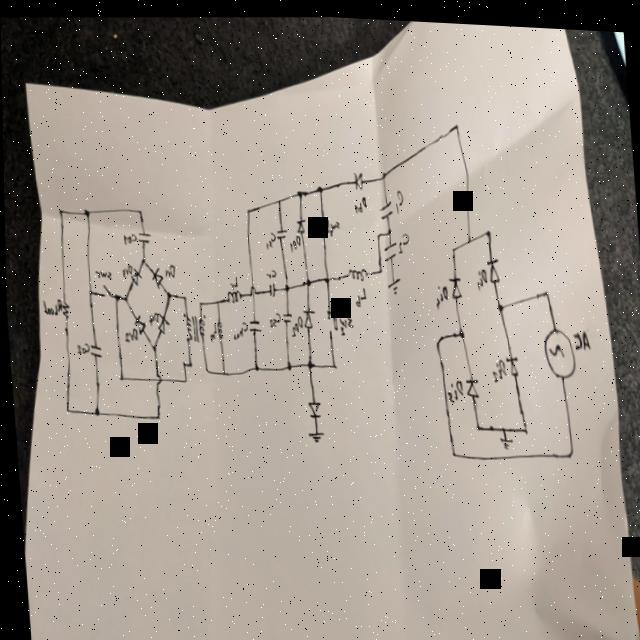capacitor: (381, 235, 397, 257), (86, 339, 102, 360), (377, 194, 392, 215), (135, 227, 150, 243), (246, 314, 260, 330), (273, 223, 285, 236), (280, 307, 291, 320), (266, 278, 275, 293)
crossover: (246, 281, 256, 296), (152, 369, 161, 383)
diode: (485, 250, 500, 278), (446, 269, 461, 295), (463, 369, 478, 394), (504, 345, 517, 372), (153, 309, 168, 332), (305, 394, 320, 416), (300, 301, 313, 326), (149, 263, 162, 287), (127, 264, 141, 286), (352, 165, 363, 188), (132, 312, 143, 334), (293, 210, 305, 230)
ground: (303, 424, 324, 442), (385, 271, 400, 290), (497, 429, 512, 445)
inductor: (345, 262, 367, 277), (225, 284, 241, 300), (214, 315, 223, 341)
junction: (148, 338, 156, 351), (472, 415, 480, 427), (120, 290, 128, 302), (565, 439, 572, 452), (112, 289, 119, 302), (519, 418, 527, 429), (138, 253, 146, 264), (484, 221, 491, 233), (448, 443, 456, 453), (163, 286, 171, 296), (304, 355, 312, 365), (432, 331, 440, 341), (456, 322, 463, 333), (282, 278, 289, 289), (541, 281, 548, 292), (85, 285, 92, 296), (91, 404, 98, 415), (153, 408, 160, 419), (322, 269, 329, 280), (296, 184, 303, 195), (284, 356, 291, 366), (82, 205, 89, 215), (315, 180, 322, 190), (495, 296, 502, 306), (452, 116, 459, 126), (449, 239, 456, 249), (303, 273, 310, 283), (464, 230, 471, 240), (117, 371, 123, 380), (180, 291, 186, 299), (498, 418, 504, 426), (252, 359, 257, 368), (63, 403, 68, 412), (245, 203, 250, 212), (380, 166, 385, 175), (330, 356, 335, 364), (57, 206, 62, 214), (136, 205, 141, 213), (377, 262, 382, 270), (386, 223, 391, 231), (374, 226, 379, 234), (186, 357, 190, 365), (180, 357, 184, 365), (182, 373, 186, 381), (203, 363, 207, 371), (197, 296, 201, 304), (215, 295, 219, 302), (276, 193, 280, 200), (220, 366, 224, 373)
resistor: (59, 298, 70, 320)
source: (540, 316, 575, 373)
switch: (323, 304, 337, 331), (98, 280, 111, 298), (318, 211, 328, 232)
text: (571, 319, 590, 347), (40, 294, 61, 316), (489, 349, 505, 377), (445, 372, 462, 398), (433, 276, 448, 305), (336, 309, 353, 333), (288, 310, 303, 335), (395, 225, 409, 251), (473, 260, 487, 285), (352, 189, 367, 210), (231, 318, 247, 336), (353, 281, 366, 302), (122, 324, 137, 342), (393, 183, 403, 209), (262, 228, 275, 248), (161, 260, 175, 278), (73, 339, 89, 354), (120, 229, 137, 243), (93, 265, 111, 278), (146, 307, 158, 326), (286, 232, 300, 248), (266, 307, 279, 324), (227, 270, 240, 286), (327, 214, 338, 232), (263, 263, 276, 277), (119, 261, 130, 275), (207, 321, 215, 340)
transformer: (180, 309, 206, 341)
